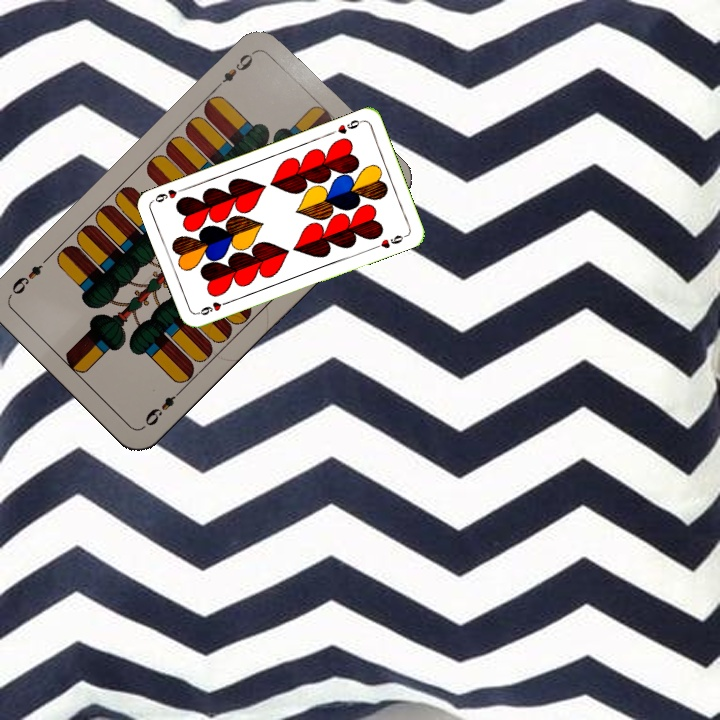E9: (211, 46, 259, 92), (140, 384, 186, 429)
H9: (326, 116, 366, 137), (193, 297, 233, 318)
